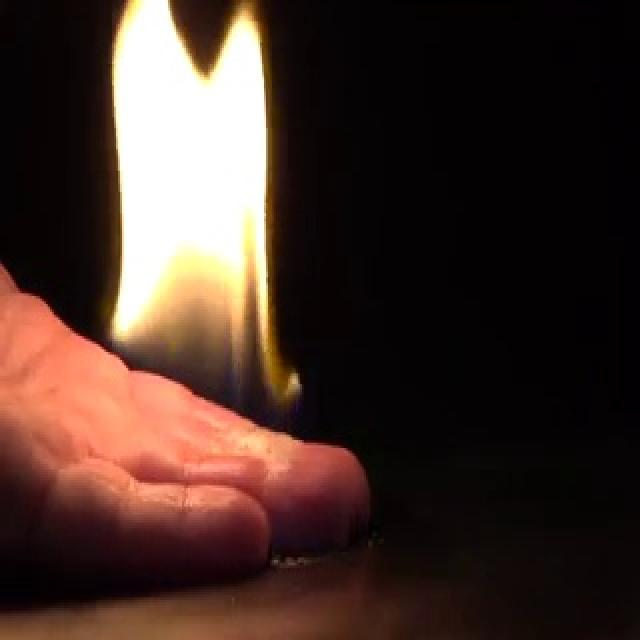fire: (99, 0, 305, 409)
